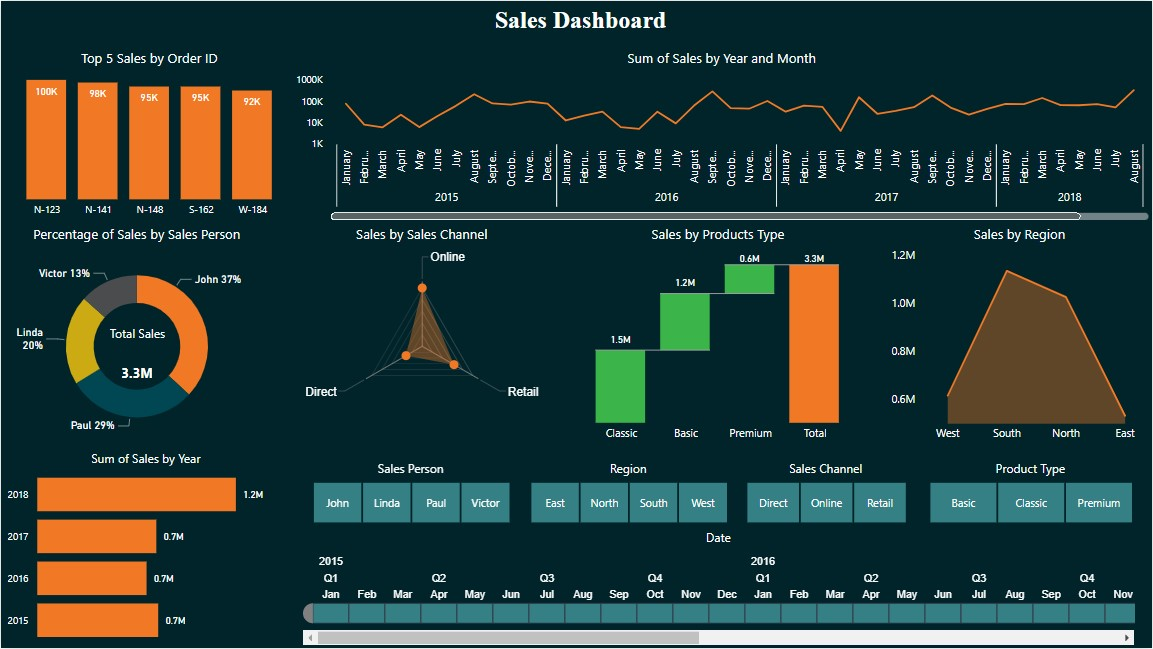

What the dashboard file says about the page in this screenshot:
{"tool":"powerbi","page":{"name":"Page 1","canvas":[1280,720],"ordinal":0},"visuals":[{"type":"lineChart","fields":{"Category":["Data.Date.Variation.Date Hierarchy.Year","Data.Date.Variation.Date Hierarchy.Month"],"Y":["Sum(Data.Sales)"]},"box":[321.7,53.3,958.3,195],"z":0},{"type":"waterfallChart","title":"Sales by Products Type","fields":{"Category":["Data.Products Type"],"Y":["Sum(Data.Sales)"]},"box":[626.7,248.3,340,250],"z":1000},{"type":"barChart","title":"Sum of Sales by Year","fields":{"Category":["Data.Date.Variation.Date Hierarchy.Year"],"Y":["Sum(Data.Sales)"]},"box":[0,498.3,321.7,220],"z":2000},{"type":"areaChart","title":"Sales by Region","fields":{"Category":["Data.Region"],"Y":["Sum(Data.Sales)"]},"box":[983.3,248.3,296.7,250],"z":3000},{"type":"donutChart","title":"Percentage of Sales by Sales Person","fields":{"Category":["Data.Sales Person"],"Y":["Sum(Data.Sales)"]},"box":[0,248.3,301.7,250],"z":4000},{"type":"clusteredColumnChart","title":"Top 5 Sales by Order ID","fields":{"Category":["Data.Order ID"],"Y":["Sum(Data.Sales)"]},"box":[0,53.3,330,195],"z":5000},{"type":"RadarChart1446119667547","title":"Sales by Sales Channel","fields":{"Y":["Sum(Data.Sales)"],"Category":["Data.Sales Channel"]},"box":[301.7,248.3,331.7,250],"z":6000},{"type":"textbox","box":[8,0,1271,53],"z":7000},{"type":"Timeline1447991079100","fields":{"Time":["Data.Date"]},"box":[330,586,934,134],"z":8000},{"type":"slicer","title":"Sales Channel","fields":{"Values":["Data.Sales Channel"]},"box":[804,510,226,76],"z":9000},{"type":"slicer","title":"Region","fields":{"Values":["Data.Region"]},"box":[563,510,267,76],"z":10000},{"type":"slicer","title":"Product Type","fields":{"Values":["Data.Products Type"]},"box":[1006,510,274,76],"z":11000},{"type":"slicer","title":"Sales Person","fields":{"Values":["Data.Sales Person"]},"box":[321,510,267,76],"z":12000},{"type":"cardVisual","title":"Total Sales","fields":{"Data":["Sum(Data.Sales)"]},"box":[103.3,360,96.7,73.3],"z":13000}]}

Visuals, with their boxes in screenshot pixels (x1, y1, x2, y2), scaled from the page's 1280x720 canvas onto the 1153x649 screenshot:
lineChart - Data.Date.Variation.Date Hierarchy.Year x Data.Date.Variation.Date Hierarchy.Month: 290,48,1152,224
"Sales by Products Type" waterfallChart: 565,224,871,449
"Sum of Sales by Year" barChart: 0,449,290,647
"Sales by Region" areaChart: 886,224,1152,449
"Percentage of Sales by Sales Person" donutChart: 0,224,272,449
"Top 5 Sales by Order ID" clusteredColumnChart: 0,48,297,224
"Sales by Sales Channel" RadarChart1446119667547: 272,224,571,449
textbox: 7,0,1152,48
Timeline1447991079100 - Data.Date: 297,528,1139,648
"Sales Channel" slicer: 724,460,928,528
"Region" slicer: 507,460,748,528
"Product Type" slicer: 906,460,1152,528
"Sales Person" slicer: 289,460,530,528
"Total Sales" cardVisual: 93,324,180,391
